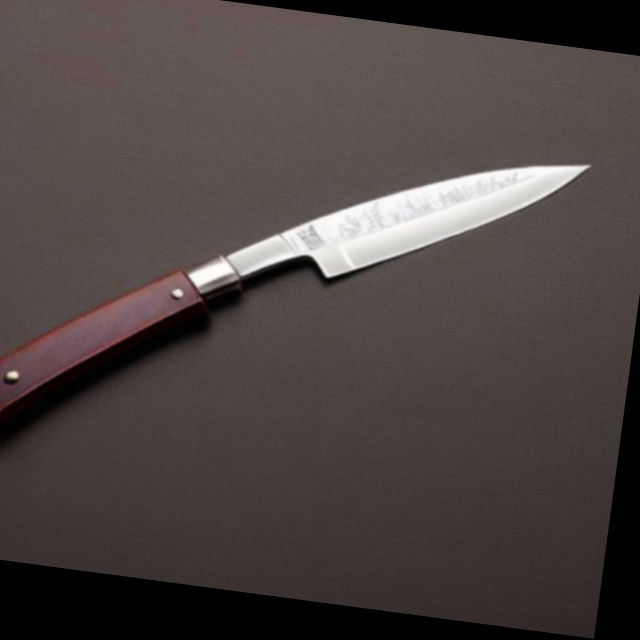Sharp-Object: (0, 79, 600, 503)
